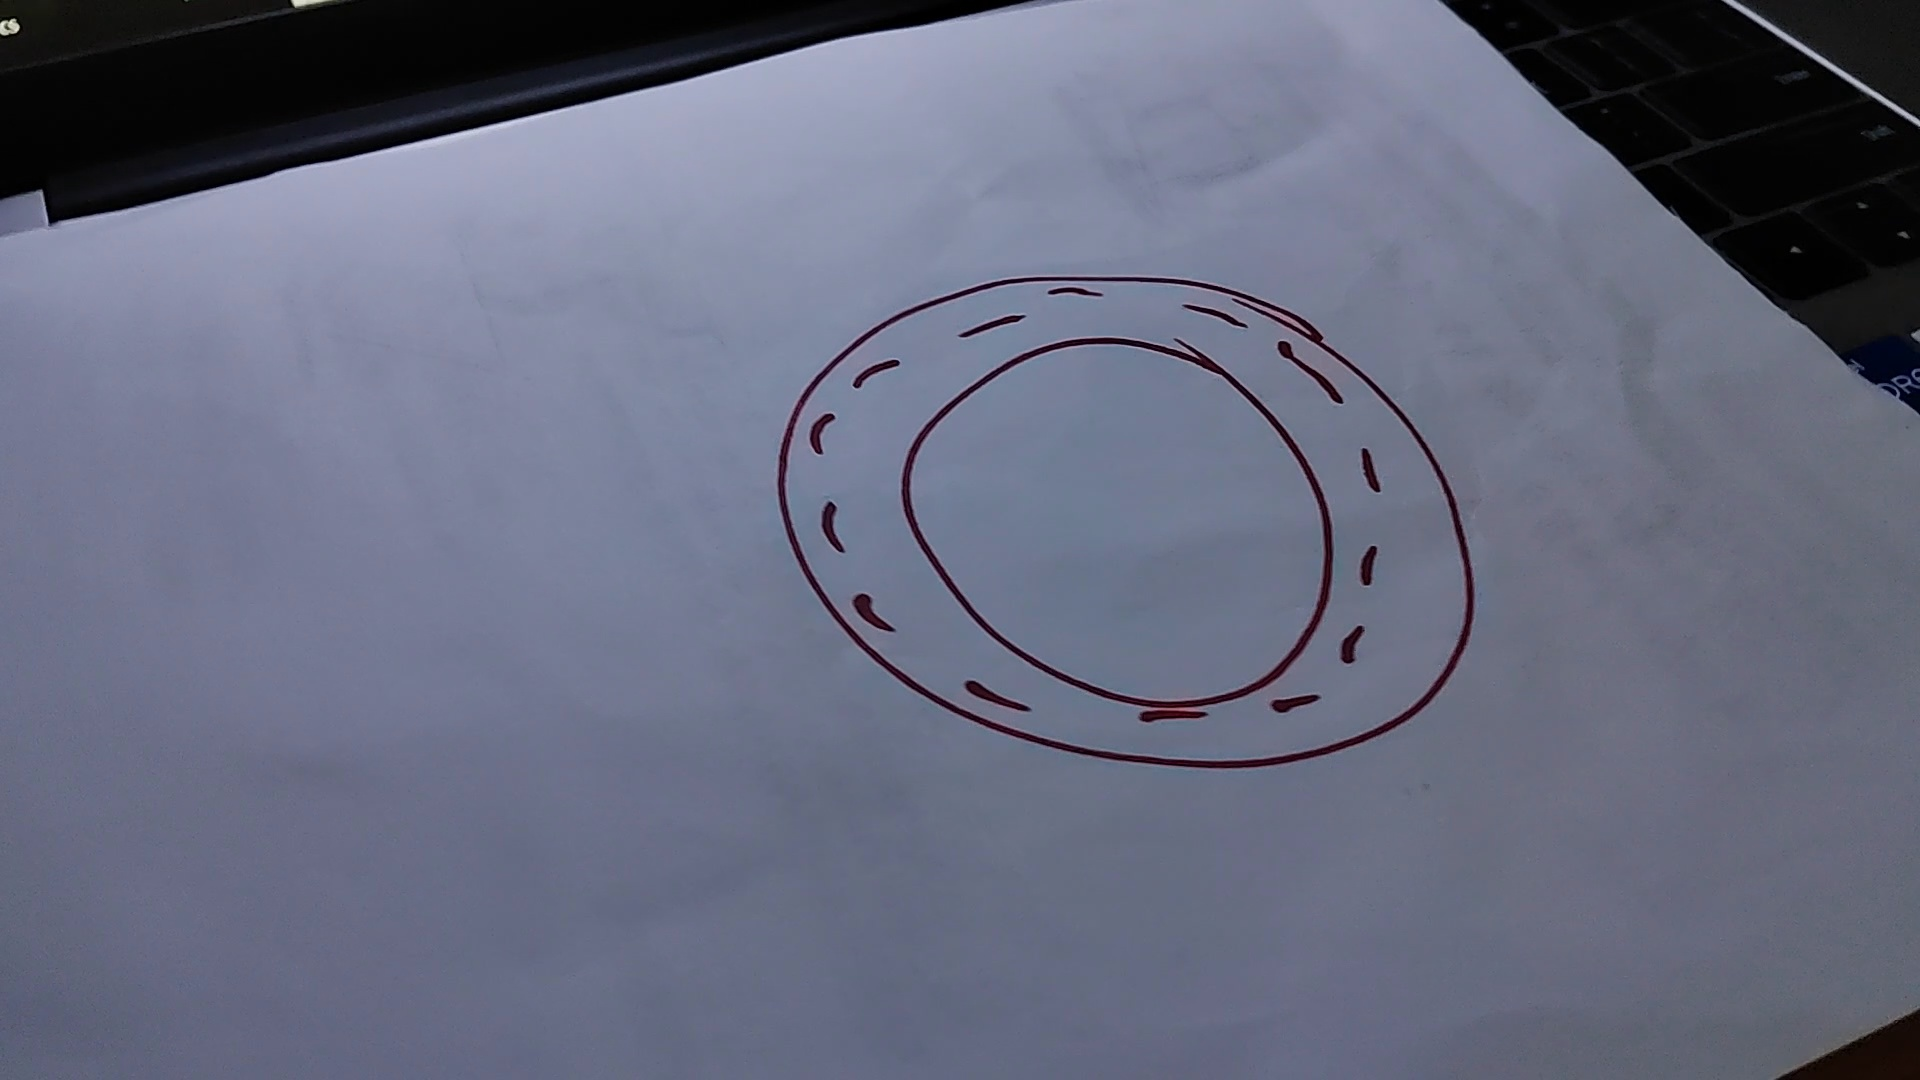circle: (775, 277, 1481, 770)
